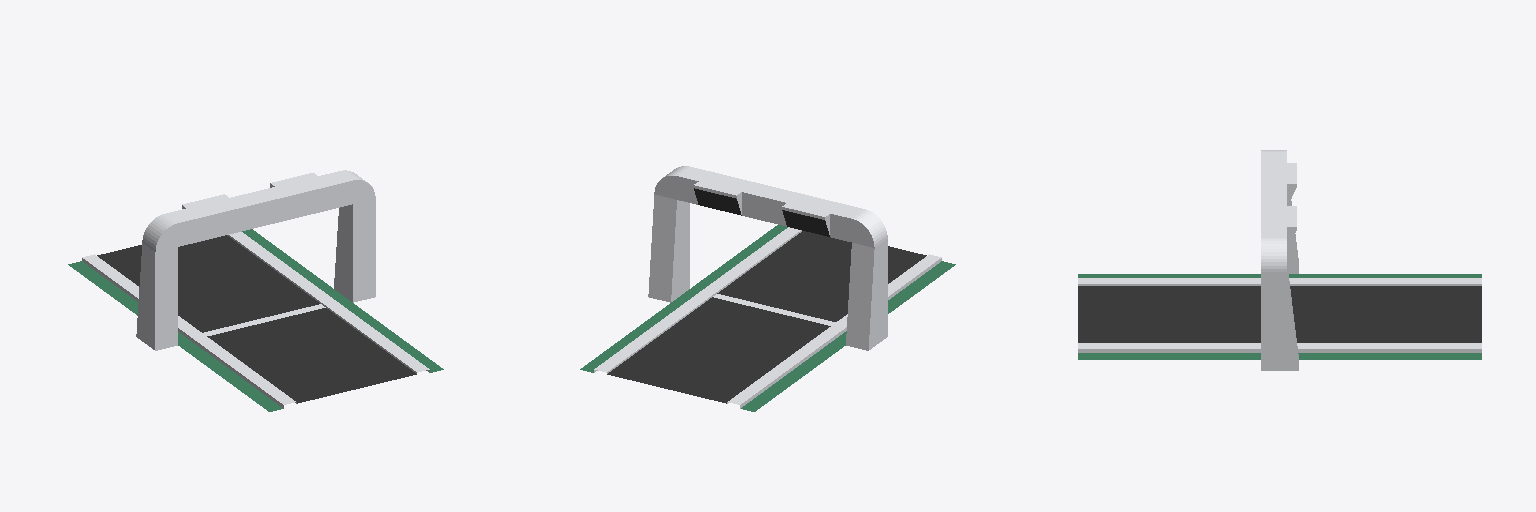
Rendered from roadStart.obj.
The picture shows the model from 3 angles: view 1: azimuth 30°, elevation 25°; view 2: azimuth 150°, elevation 25°; view 3: azimuth 270°, elevation 25°; orthographic projection.
Parts seen in each view (by area): view 1: roadStart; view 2: roadStart; view 3: roadStart.
Boxes of the visible parts, box(x1,y1,x2,y2) form: roadStart: box(68, 170, 443, 411); roadStart: box(580, 166, 955, 411); roadStart: box(1078, 150, 1481, 370).
Bounding box in the file's own units: 1.26 × 0.6682 × 2.